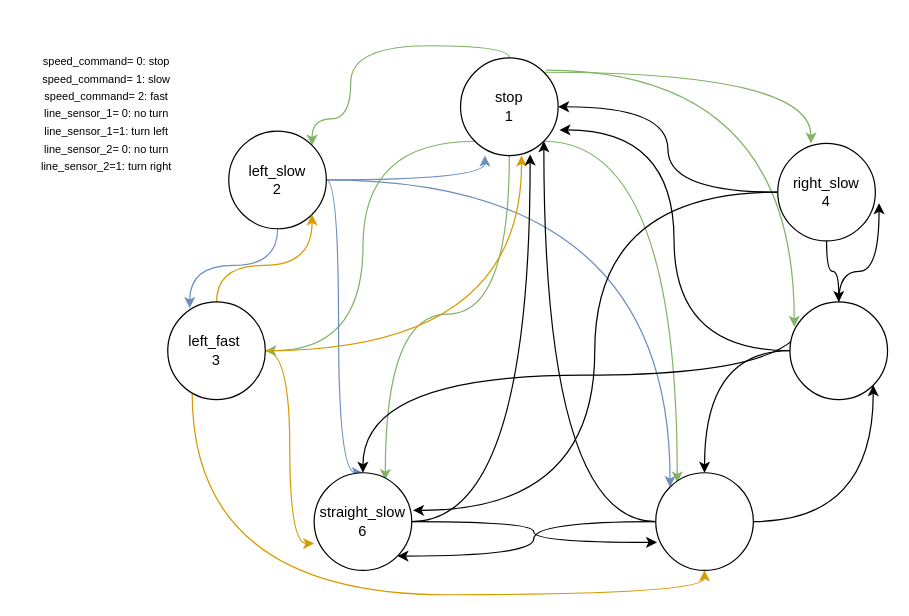
Some shapes in this 909 by 616 pixel diagram are drawn without their labels. Here are the shapes that lost their labels. From the top down, the box of each, then its label:
(789, 301, 888, 400): right_fast 5
(655, 472, 753, 570): straight_fast 7
